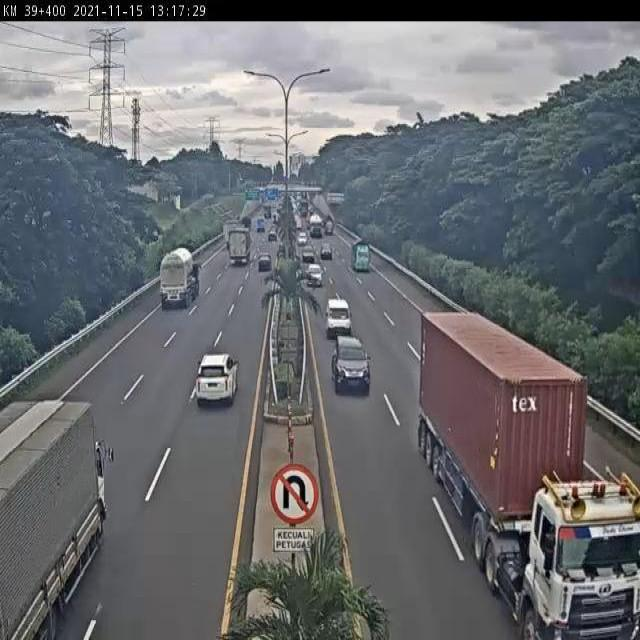bus-s-: (323, 298, 355, 338)
car: (331, 335, 373, 397), (195, 350, 240, 406), (304, 263, 325, 289), (256, 250, 275, 274)
truck-l-: (159, 248, 200, 311)
truck-m-: (0, 398, 108, 640), (226, 227, 251, 264), (349, 237, 373, 275)
truck-xl-: (421, 308, 640, 640)
